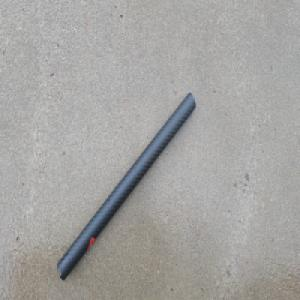LuggagePart: (55, 91, 196, 282)
